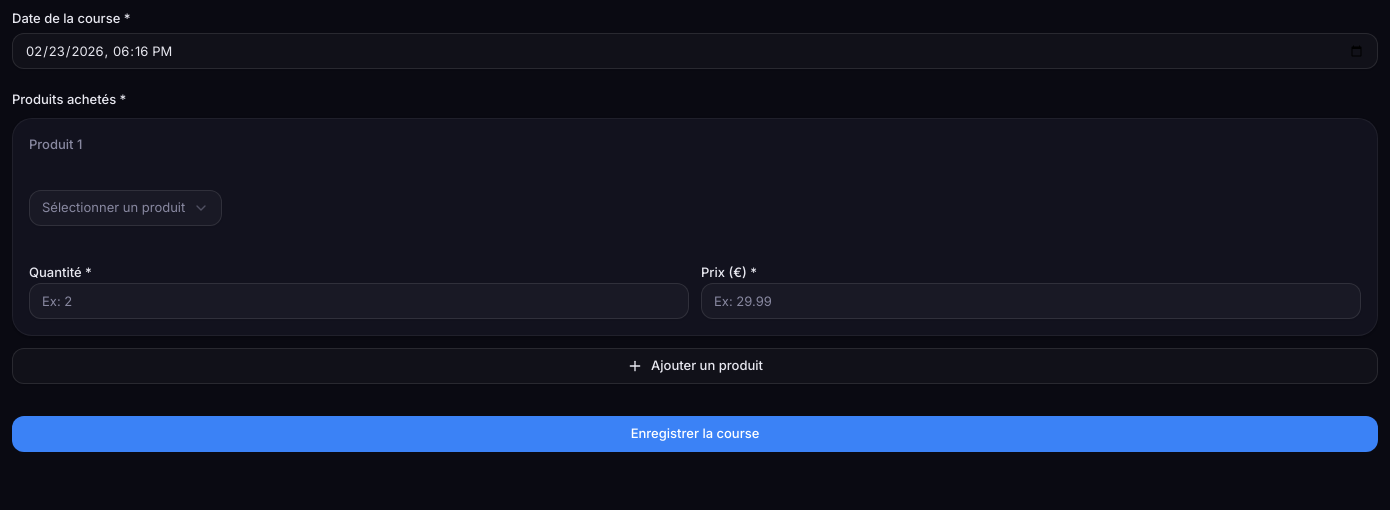
Test case: ShoppingForm › affiche une erreur si le prix est invalide
The width and height of the screenshot is (1390, 510).
Type "xyz" into the field with placeholder "Ex: 29.99" at (1031,301), box [701,283,1361,319]
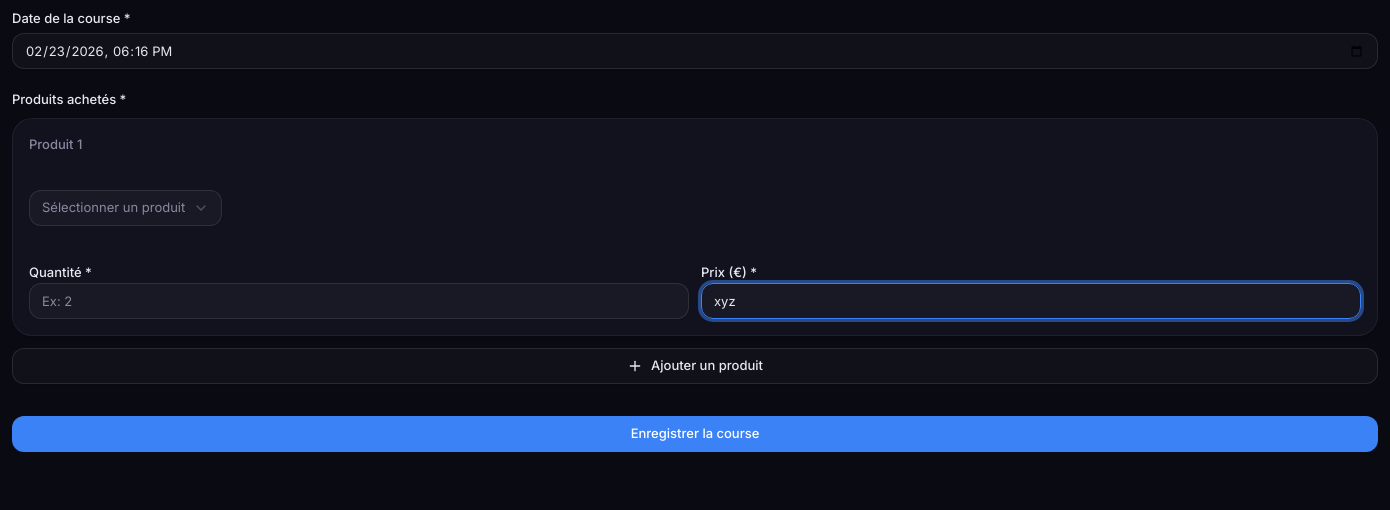
Click the button "Enregistrer la course" at (695,434), box [12,416,1378,452]
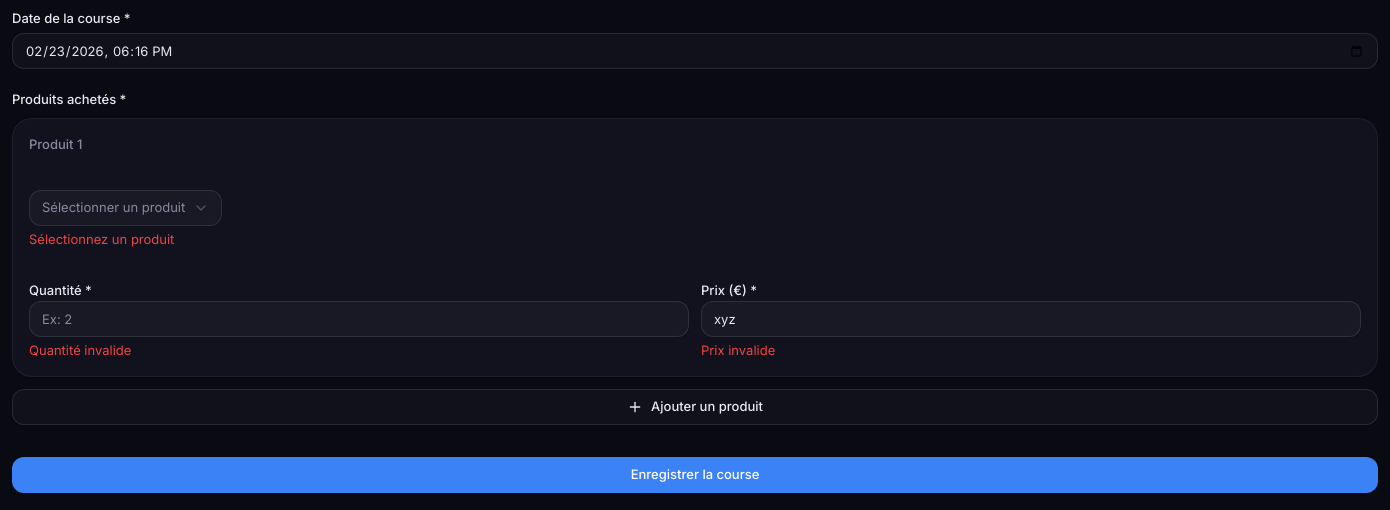
expect the text "Prix invalide" is shown: met, box [701,342,775,358]
